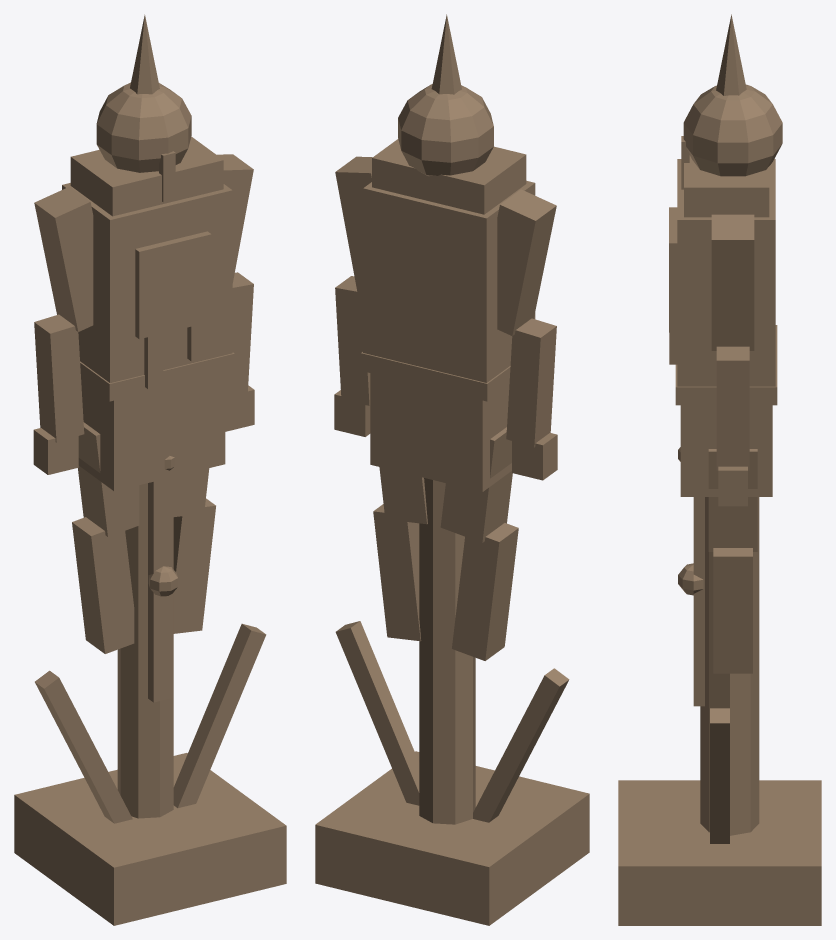
File: aldrich_impaled_stake.fbx
The picture shows the model from 3 angles, left to right: view 1: azimuth 30°, elevation 25°; view 2: azimuth 150°, elevation 25°; view 3: azimuth 270°, elevation 25°; orthographic projection. The views are drawn at different scales.
Parts seen in each view (by area): view 1: aldrich_impaled_stake; view 2: aldrich_impaled_stake; view 3: aldrich_impaled_stake.
Boxes of the visible parts, x1,y1,x2,y2 form: aldrich_impaled_stake: (14,14,286,925); aldrich_impaled_stake: (315,14,589,925); aldrich_impaled_stake: (618,14,821,925).
Bounding box in the file's own units: 0.7985 × 2.92 × 0.62.
